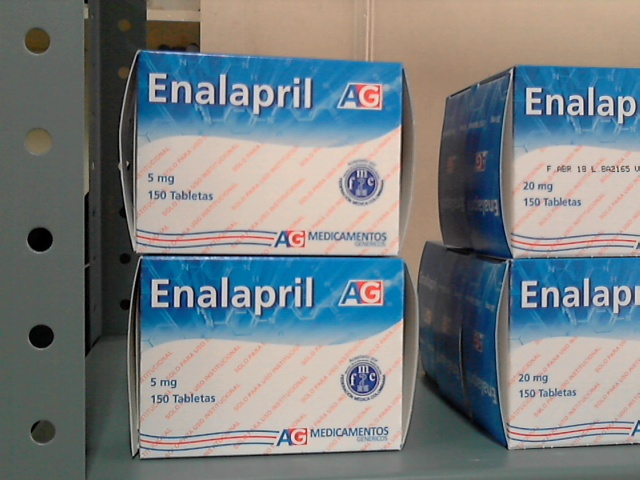AG: (138, 52, 400, 256), (141, 260, 401, 451)
